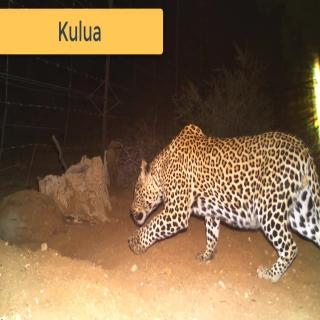Leopard: (127, 122, 320, 284)
